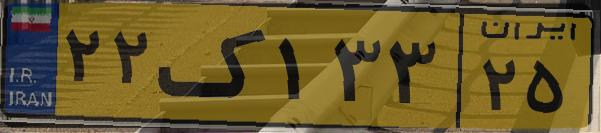1: (270, 28, 330, 110)
2: (57, 26, 110, 100), (475, 38, 525, 113), (110, 28, 158, 98)
3: (385, 28, 445, 110), (330, 28, 385, 110)
5: (525, 38, 570, 115)
ک: (158, 12, 270, 120)
